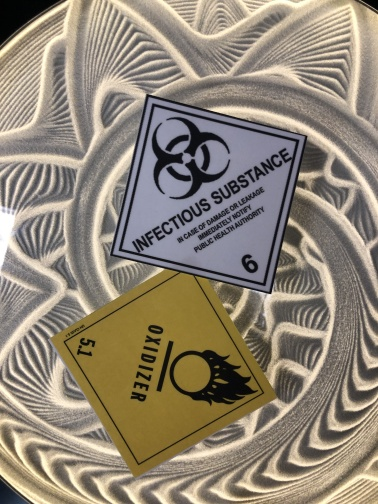InfectiousSubstance: (110, 94, 307, 293)
Oxidizer: (50, 268, 275, 479)
